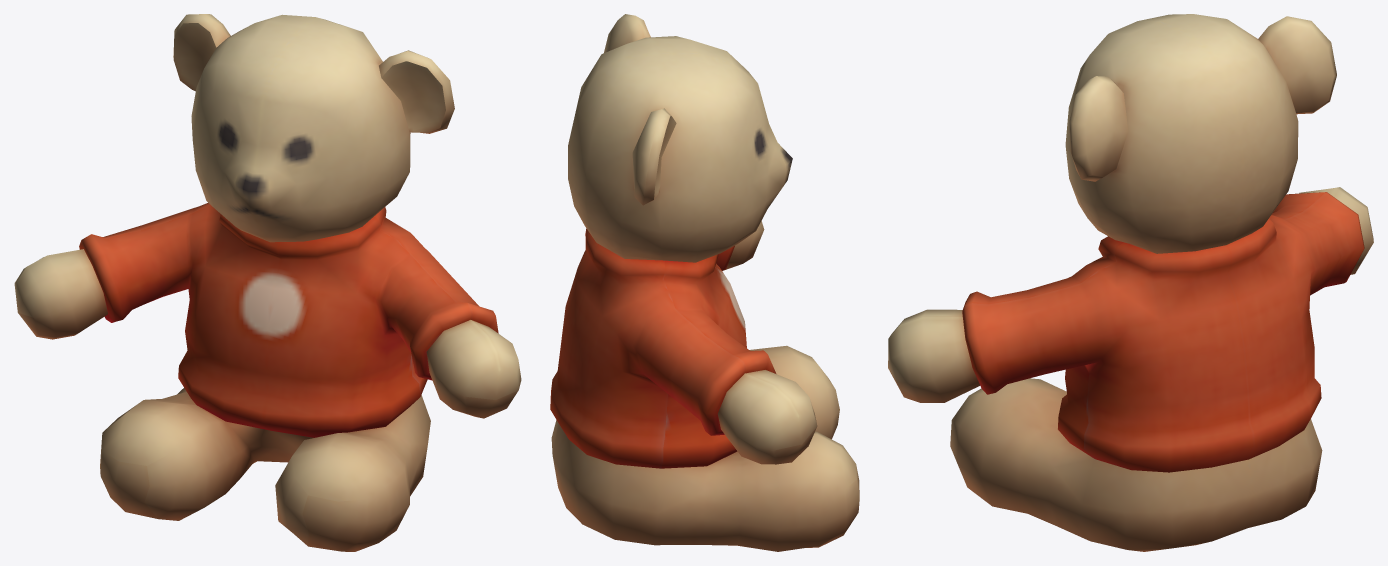
Rendered from XiuXiShi_01_wanjuxiong_01.FBX.
The picture shows the model from 3 angles, left to right: view 1: azimuth 30°, elevation 25°; view 2: azimuth 150°, elevation 25°; view 3: azimuth 270°, elevation 25°; orthographic projection. The views are drawn at different scales.
Parts seen in each view (by area): view 1: XiuXiShi_wanjuxiong_01; view 2: XiuXiShi_wanjuxiong_01; view 3: XiuXiShi_wanjuxiong_01.
Part boxes in pixels (x1,y1,x2,y2): XiuXiShi_wanjuxiong_01: (14, 14, 521, 551); XiuXiShi_wanjuxiong_01: (550, 14, 859, 551); XiuXiShi_wanjuxiong_01: (888, 14, 1373, 551).
Bounding box in the file's own units: 112 × 150 × 138.
